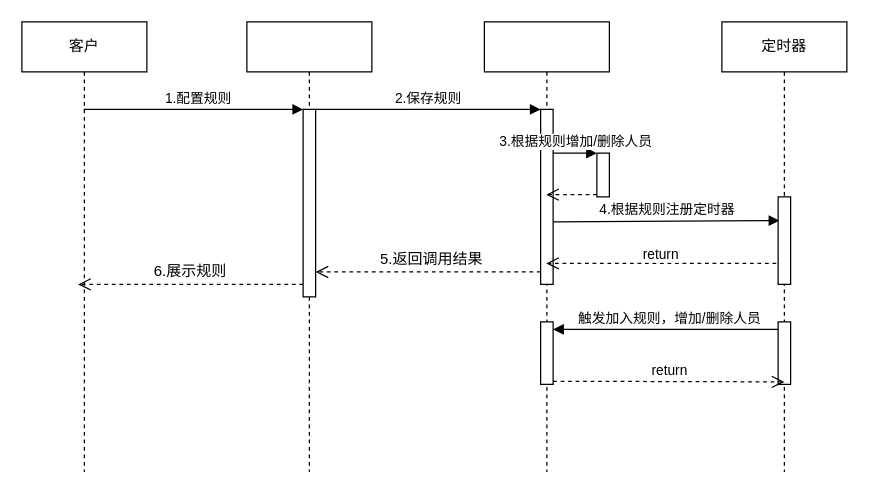
The diagram is 869 pixels wide and 494 high, and some of its shapes have lost their labels. Each missing label, with the box of its shape:
选人控件（前端）: (246, 21, 372, 472)
选人控件（后端）: (483, 21, 609, 472)
